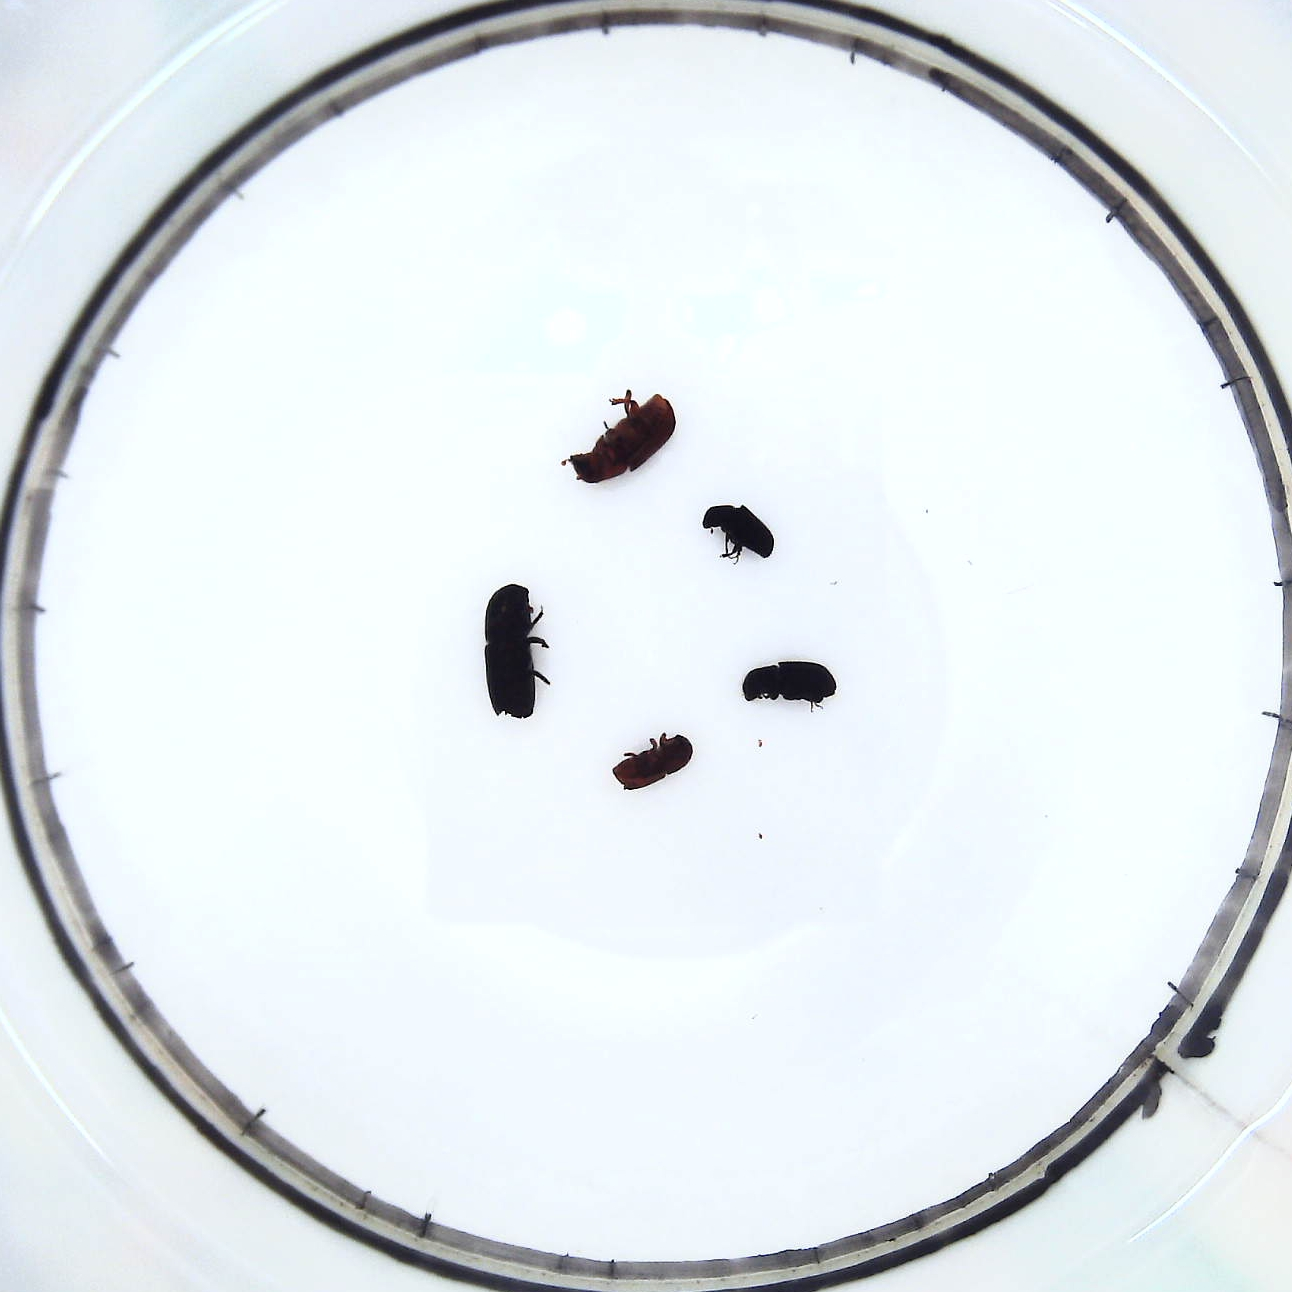Boerner: (476, 577, 558, 725)
Leconte: (566, 385, 686, 486)
armandi: (737, 652, 844, 711)
coleoptera: (699, 498, 781, 569)
linnaeus: (611, 730, 700, 797)
